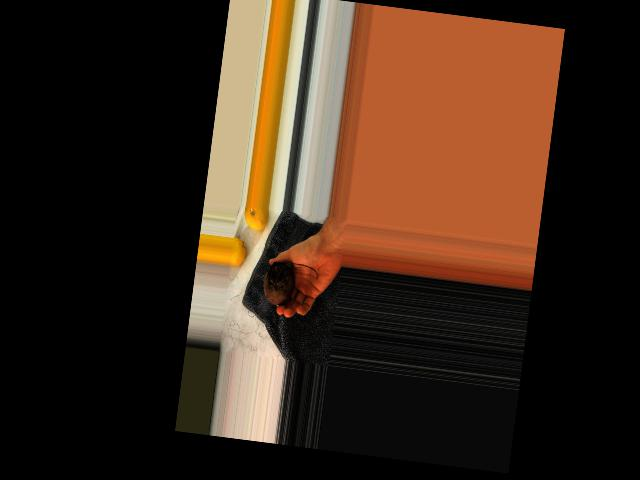beet: (260, 261, 319, 310)
